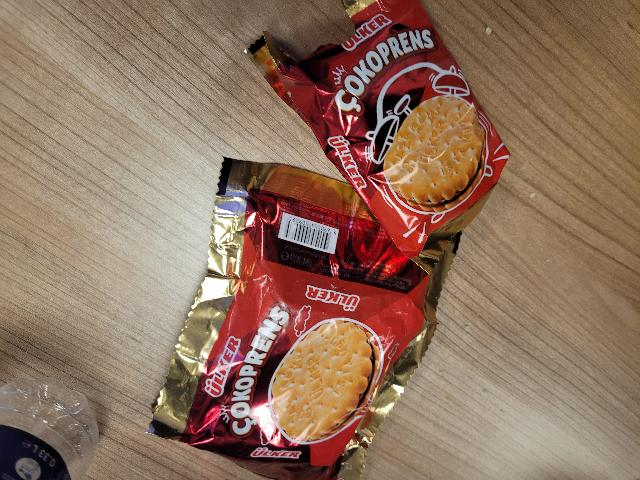Plastik: (142, 156, 460, 480), (242, 0, 511, 262), (0, 353, 106, 480)
